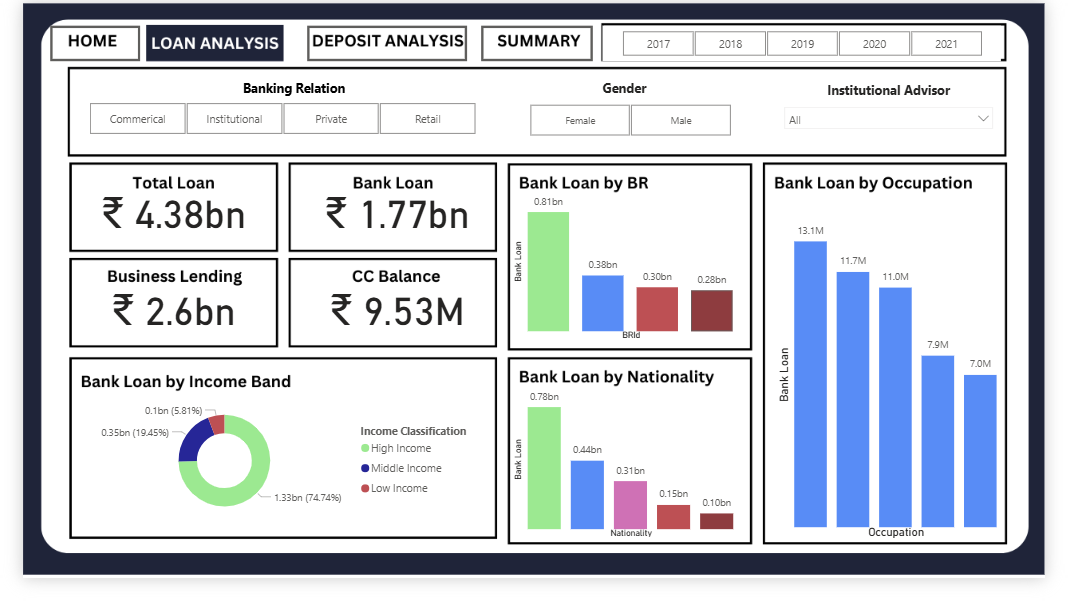

The dashboard page shown, as its layout file describes it:
{"tool":"powerbi","page":{"name":"Loan Analysis","canvas":[1280,720],"ordinal":1},"visuals":[{"type":"actionButton","title":"HOME","box":[356.3,27,200.4,44.5],"z":0},{"type":"card","fields":{"Values":["Table1.Total Loans"]},"box":[76.3,222.7,224.3,73.2],"z":1000},{"type":"actionButton","title":"HOME","box":[574.2,27,140,44.5],"z":2000},{"type":"actionButton","title":"HOME","box":[33.4,27,112.9,44.5],"z":3000},{"type":"card","fields":{"Values":["Sum(Table1.Business Lending)"]},"box":[76.3,343.6,224.3,73.2],"z":4000},{"type":"card","fields":{"Values":["Sum(Table1.Credit Card Balance)"]},"box":[356.3,343.6,224.3,73.2],"z":5000},{"type":"card","fields":{"Values":["Sum(Table1.Bank Loans)"]},"box":[356.3,222.7,224.3,73.2],"z":6000},{"type":"donutChart","fields":{"Category":["Table1.Income Classification"],"Y":["Sum(Table1.Bank Loans)"]},"box":[76.3,493.1,497.9,157.5],"z":7000},{"type":"clusteredColumnChart","fields":{"Category":["Table1.BRId"],"Y":["Sum(Table1.Bank Loans)"]},"box":[610.8,222.7,286.3,203.6],"z":8000},{"type":"clusteredColumnChart","fields":{"Y":["Sum(Table1.Bank Loans)"],"Category":["Table1.Nationality"]},"box":[610.8,470.8,286.3,203.6],"z":9000},{"type":"slicer","fields":{"Values":["Table1.Joining Year"]},"box":[726.9,27,499.5,44.5],"z":10000},{"type":"slicer","fields":{"Values":["Table1.BRId"]},"box":[58.9,117.7,532.9,52.5],"z":11000},{"type":"slicer","fields":{"Values":["Table1.GenderId"]},"box":[610.8,119.3,300.6,52.5],"z":12000},{"type":"textbox","box":[264,90.7,151.1,38.2],"z":13000},{"type":"textbox","box":[993.9,91.6,181.2,37.8],"z":14000},{"type":"textbox","box":[677.6,90.7,151.1,38.2],"z":15000},{"type":"slicer","fields":{"Values":["Table1.IAId"]},"box":[944.8,119.3,281.5,52.5],"z":16000},{"type":"clusteredColumnChart","fields":{"Category":["Table1.Occupation"],"Y":["Sum(Table1.Bank Loans)"]},"box":[940.1,259.3,286.3,415.1],"z":17000}]}

Visuals, with their boxes in screenshot pixels (x1, y1, x2, y2), scaled from the page's 1280x720 canvas onto the 1077x611 screenshot:
"HOME" actionButton: <region>300, 23, 468, 61</region>
card - Table1.Total Loans: <region>64, 189, 253, 251</region>
"HOME" actionButton: <region>483, 23, 601, 61</region>
"HOME" actionButton: <region>28, 23, 123, 61</region>
card - Sum(Table1.Business Lending): <region>64, 292, 253, 354</region>
card - Sum(Table1.Credit Card Balance): <region>300, 292, 489, 354</region>
card - Sum(Table1.Bank Loans): <region>300, 189, 489, 251</region>
donutChart - Table1.Income Classification x Sum(Table1.Bank Loans): <region>64, 418, 483, 552</region>
clusteredColumnChart - Table1.BRId x Sum(Table1.Bank Loans): <region>514, 189, 755, 362</region>
clusteredColumnChart - Sum(Table1.Bank Loans) x Table1.Nationality: <region>514, 400, 755, 572</region>
slicer - Table1.Joining Year: <region>612, 23, 1032, 61</region>
slicer - Table1.BRId: <region>50, 100, 498, 144</region>
slicer - Table1.GenderId: <region>514, 101, 767, 146</region>
textbox: <region>222, 77, 349, 109</region>
textbox: <region>836, 78, 989, 110</region>
textbox: <region>570, 77, 697, 109</region>
slicer - Table1.IAId: <region>795, 101, 1032, 146</region>
clusteredColumnChart - Table1.Occupation x Sum(Table1.Bank Loans): <region>791, 220, 1032, 572</region>
